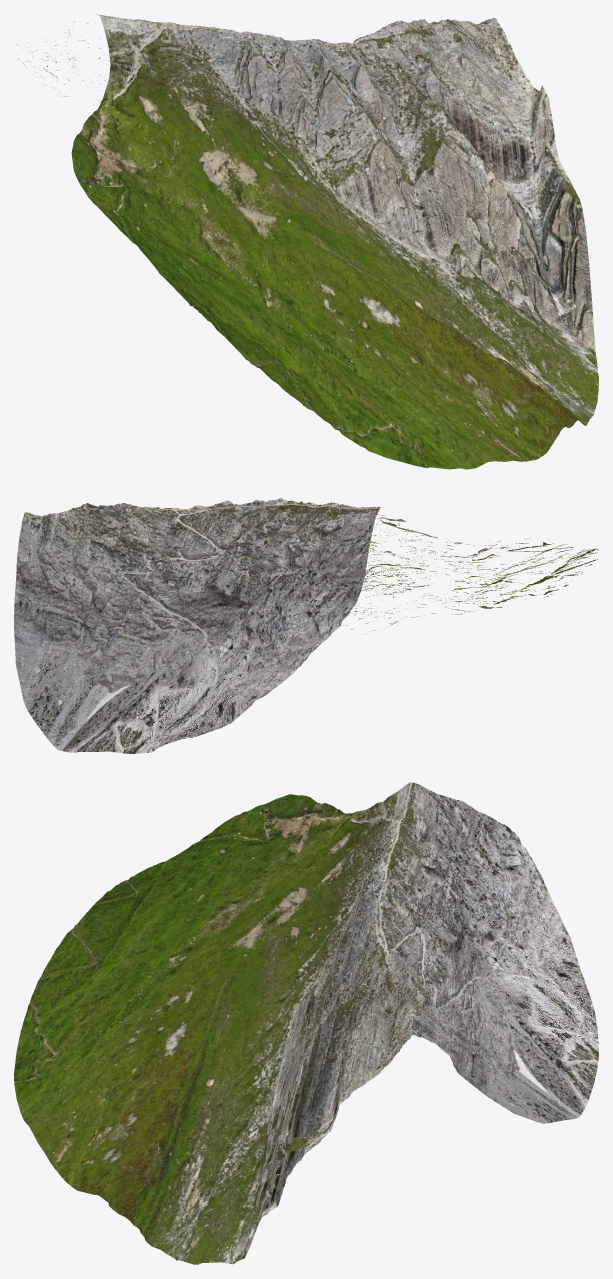
The model's file is mountain.glb.
3 views of the same model, one above another, from view 1: azimuth 30°, elevation 25°; view 2: azimuth 150°, elevation 25°; view 3: azimuth 270°, elevation 25° (orthographic). The views are drawn at different scales.
Parts seen in each view (by area): view 1: Skybox_whiteWalls_Model_3_u1_v1_0; view 2: Skybox_whiteWalls_Model_3_u1_v1_0; view 3: Skybox_whiteWalls_Model_3_u1_v1_0.
Part boxes in pixels (bbox=[...]): Skybox_whiteWalls_Model_3_u1_v1_0: bbox=[16, 14, 598, 469]; Skybox_whiteWalls_Model_3_u1_v1_0: bbox=[14, 498, 598, 753]; Skybox_whiteWalls_Model_3_u1_v1_0: bbox=[14, 782, 598, 1264].
Size of what is drawn, in the model's own units: 1 by 0.7126 by 1.15.
1 material, 1 textured.
